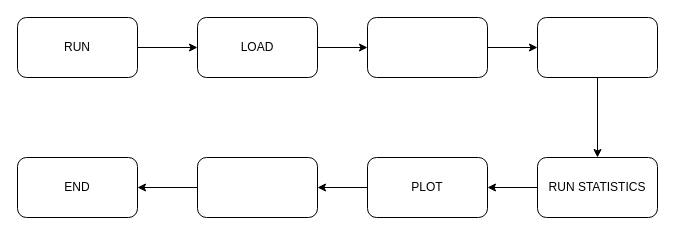
Some shapes in this 675 by 235 pixel diagram are drawn without their labels. Each missing label, with the centre of its shape:
"DISPLAY RESULTS" belongs at (x=257, y=187).
"FIT" belongs at (x=597, y=47).
"RUN ALGORITHM" belongs at (x=427, y=47).
